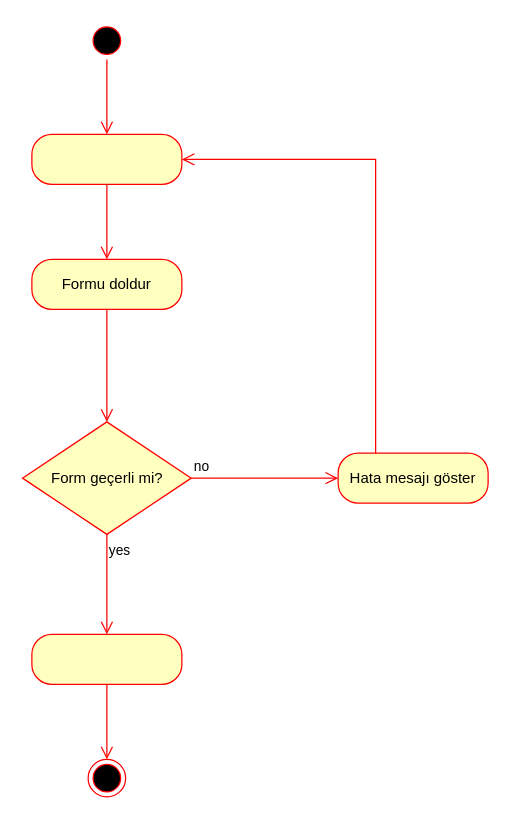
The diagram is 510 pixels wide and 819 high, and some of its shapes have lost their labels. Here are the shapes that lost their labels. From the top down, the box of each, then its label:
(31, 133, 182, 184): Araç ekleme formunu aç
(31, 633, 182, 684): Araç bilgilerini veritabanına kaydet
